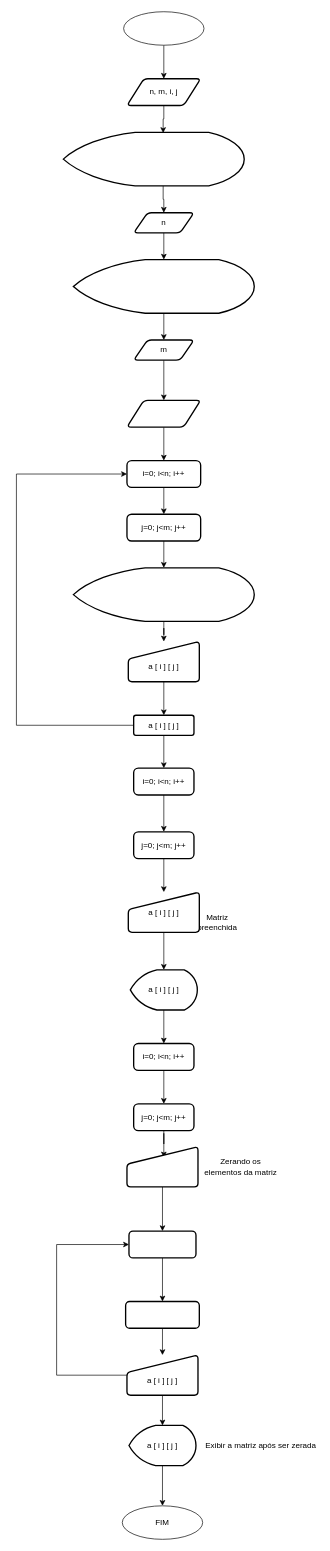
This 330x1551 diagram has some shape labels left out. Each missing label, with the box of its shape:
a [ i ] [ j ] = 0: (126, 1146, 198, 1187)
a[100][100]: (126, 399, 201, 427)
Digite o valor para a posição [", i, "][", j, "]:: (72, 567, 255, 622)
i = 0; i < n; i++: (128, 1230, 196, 1258)
Informe o número de colunas da matriz: (72, 259, 255, 314)
Informe o número de linhas da matriz:: (62, 131, 245, 186)
INICIO: (123, 11, 204, 45)
j = 0; j < m; j++: (125, 1300, 200, 1329)
